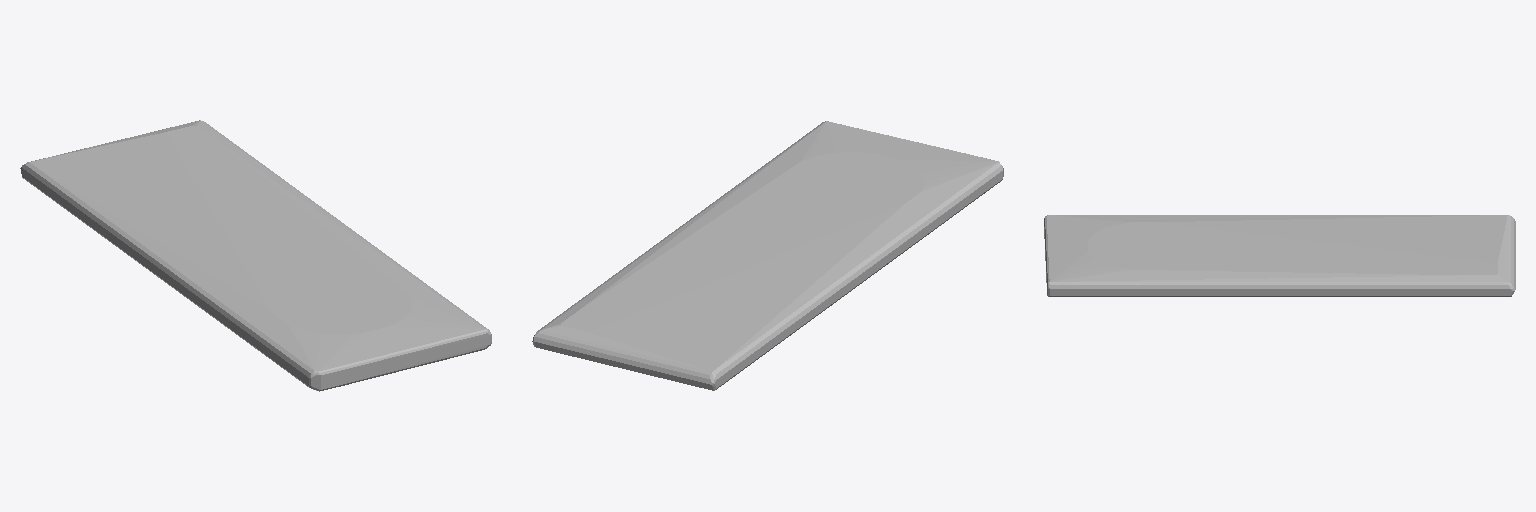
The robot description file, URDF, robot "root":
<robot name="root">
  <link name="link_coacd_convex_piece_0">
    <inertial>
      <origin xyz="0 0 0" rpy="0 0 0"/>
      <inertia ixx="1.88E-02" ixy="-7.87E-05" ixz="-5.47E-06" iyy="2.40E-03" iyz="1.07E-06" izz="2.12E-02"/>
    </inertial>
    <visual>
      <origin xyz="0 0 0" rpy="0 0 0"/>
      <geometry>
        <mesh filename="coacd_convex_piece_0.obj" scale="1.0000E+00 1.0000E+00 1.0000E+00"/>
      </geometry>
      <material name="">
        <color rgba="7.50E-01 7.50E-01 7.50E-01 1"/>
      </material>
    </visual>
    <collision>
      <origin xyz="0 0 0" rpy="0 0 0"/>
      <geometry>
        <mesh filename="coacd_convex_piece_0.obj" scale="1.0000E+00 1.0000E+00 1.0000E+00"/>
      </geometry>
    </collision>
  </link>
</robot>

--- Facts derived from the render (not from the file) ---
Views: 3 orthographic renders of the robot side by side, from view 1: azimuth 30°, elevation 25°; view 2: azimuth 150°, elevation 25°; view 3: azimuth 270°, elevation 25°.
Robot: root — 1 links, 0 joints (none); root link link_coacd_convex_piece_0; default pose: all joints at 0.
Links seen in each view (by area): view 1: link_coacd_convex_piece_0; view 2: link_coacd_convex_piece_0; view 3: link_coacd_convex_piece_0.
Link boxes in pixels (x1=…): link_coacd_convex_piece_0: x1=20, y1=120, x2=491, y2=391; link_coacd_convex_piece_0: x1=532, y1=121, x2=1003, y2=390; link_coacd_convex_piece_0: x1=1044, y1=215, x2=1515, y2=296.
Bounding box of the posed robot: 0.6617 × 1.84 × 0.0802 m (x, y, z).
Meshes: 1 distinct files referenced, 1 mesh visuals loaded (1 OBJ).
